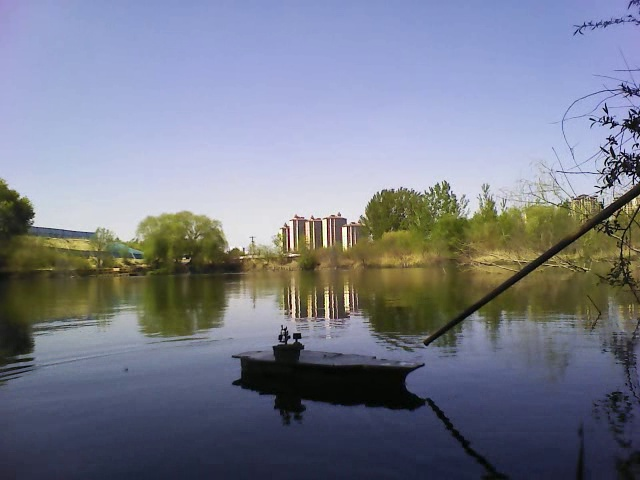aircraft_carrier: (235, 327, 427, 398)
